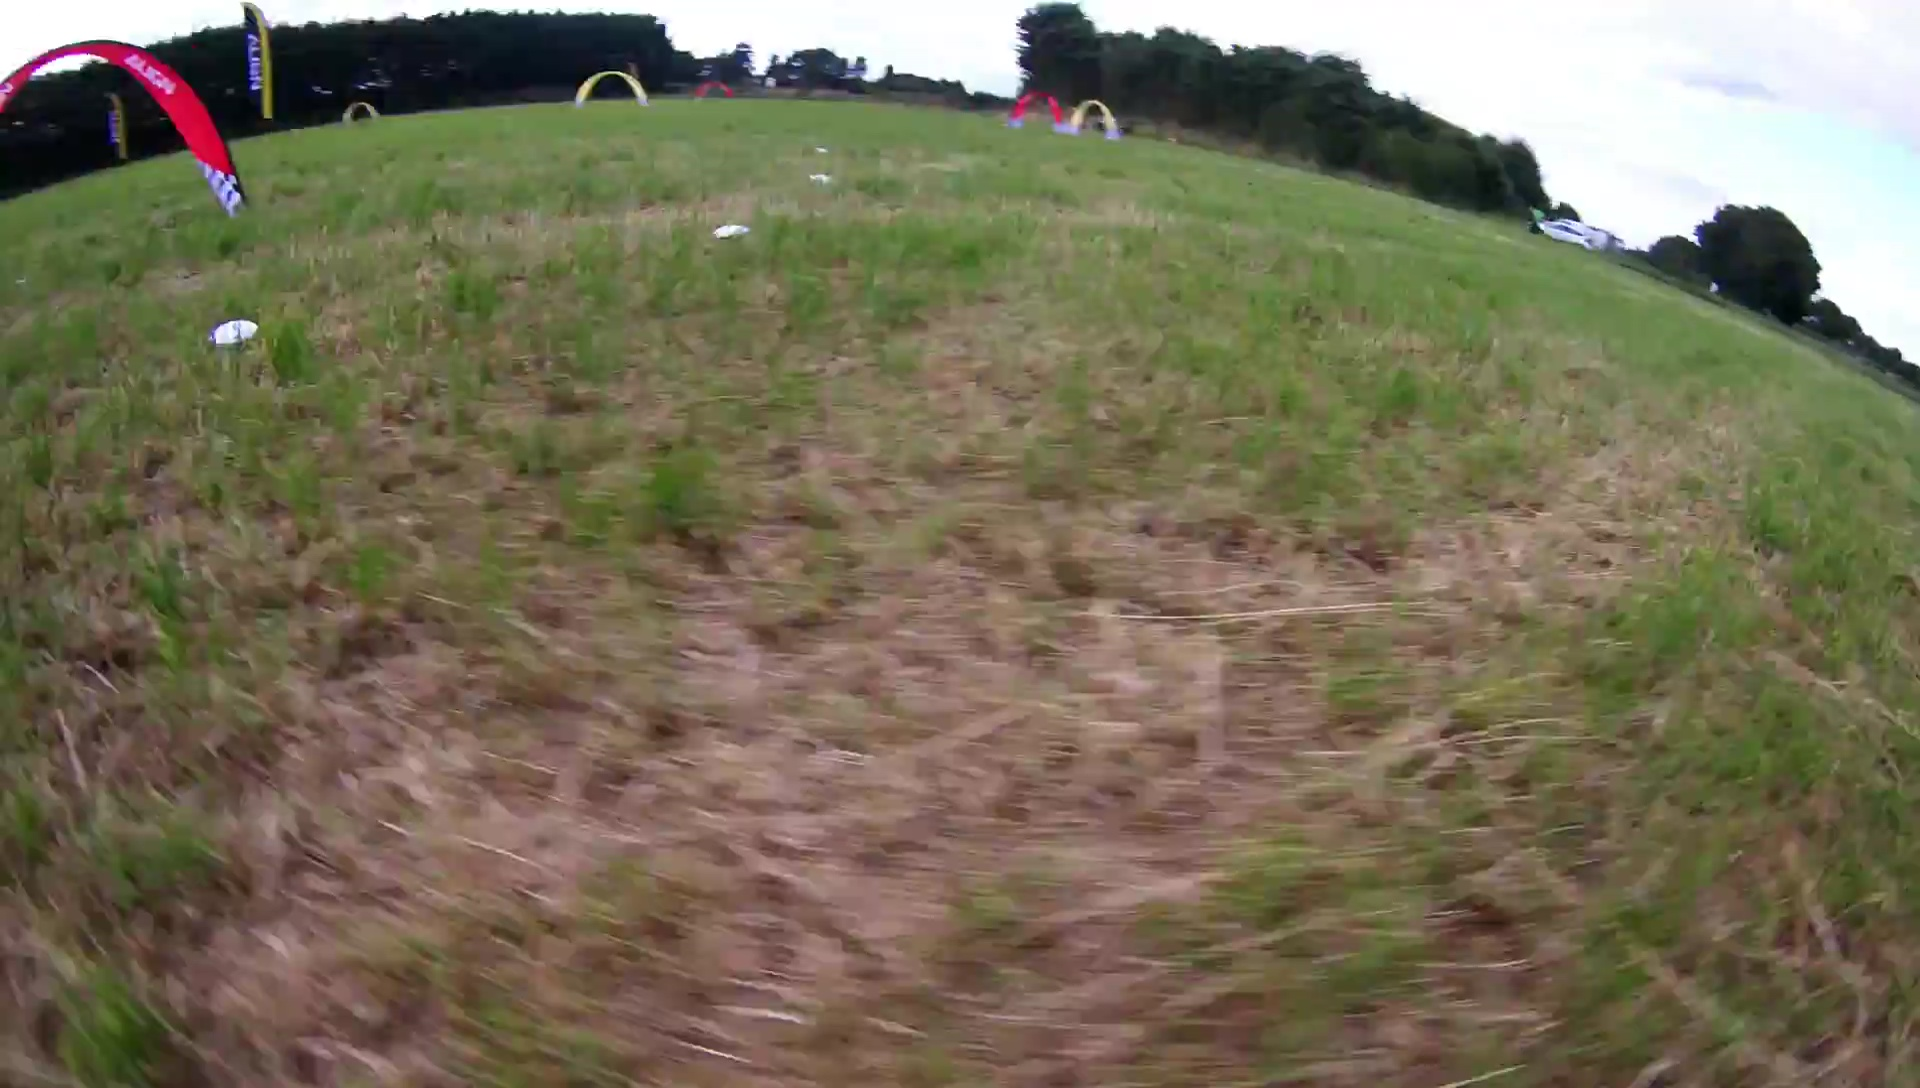gate: (1, 37, 253, 223), (570, 69, 655, 112), (1062, 98, 1124, 142), (1007, 88, 1067, 132)
